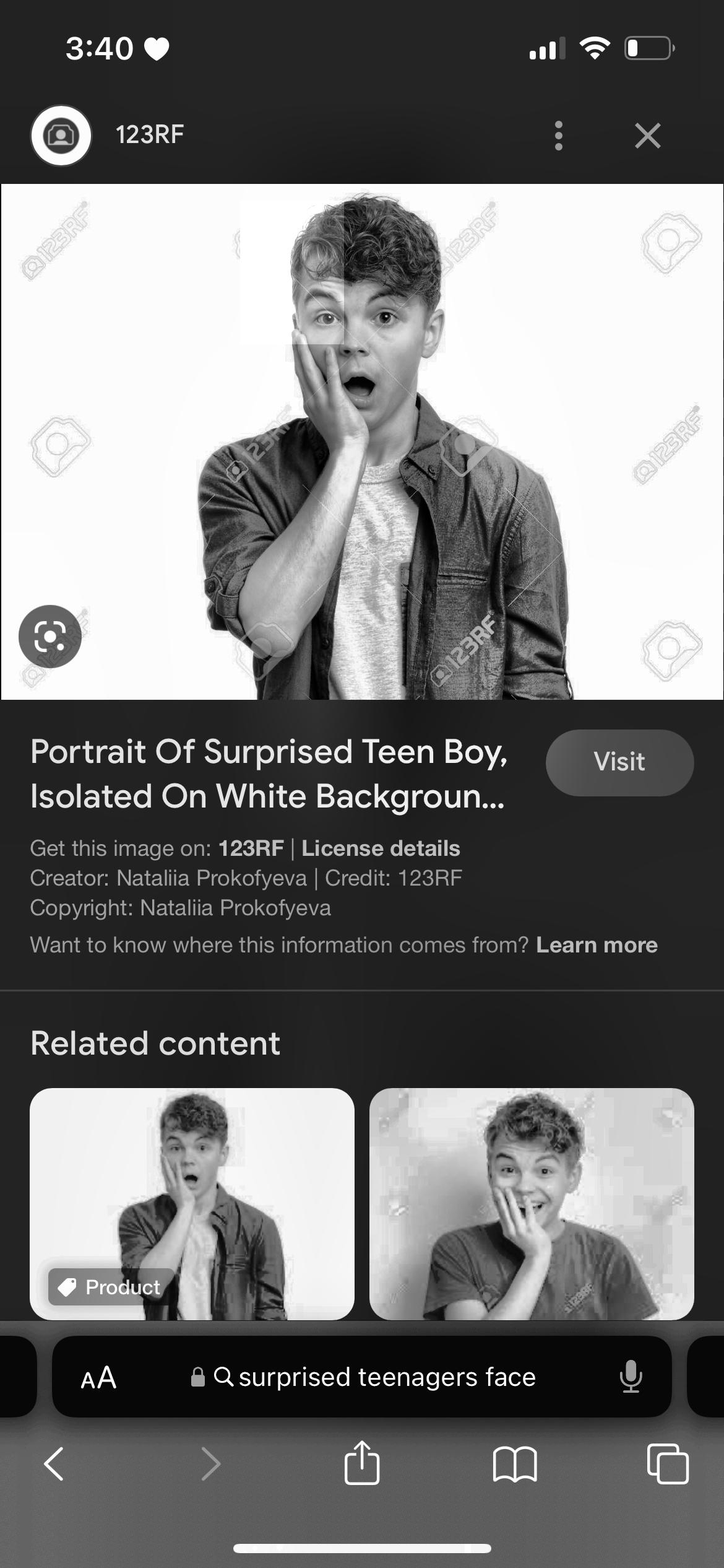surprised: (297, 248, 425, 426)
